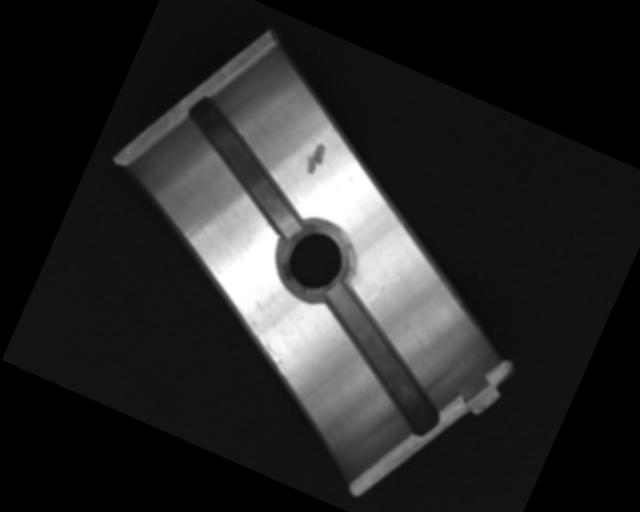bruise: (298, 137, 331, 178)
gap: (291, 279, 472, 441), (159, 91, 335, 240)
hole: (272, 211, 362, 307)
nick: (364, 261, 403, 312)
